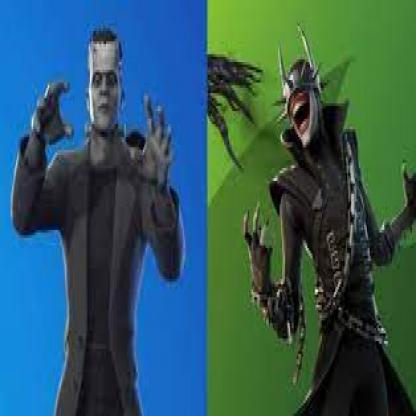person: (27, 43, 171, 410), (264, 38, 388, 416)
